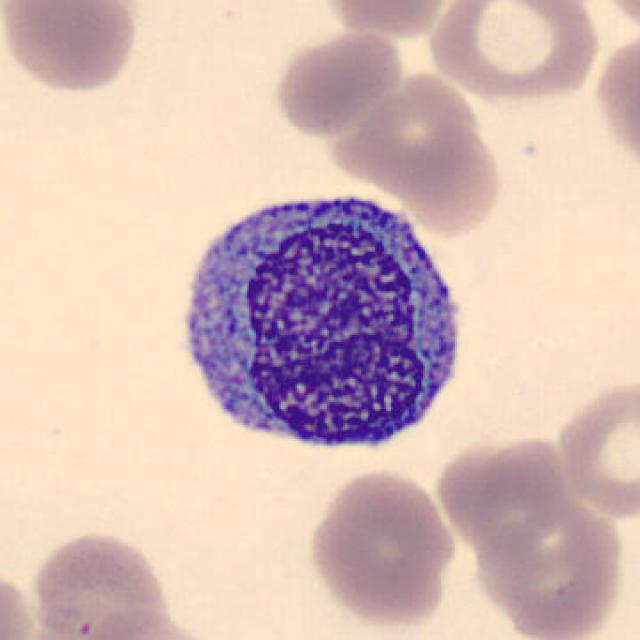Monocyte: (169, 175, 476, 467)
RBC: (302, 466, 459, 630), (469, 492, 631, 640), (322, 69, 487, 197), (425, 0, 603, 104), (430, 428, 572, 554), (27, 527, 174, 640), (270, 27, 407, 140), (0, 0, 144, 97), (553, 372, 638, 524), (592, 25, 638, 180), (313, 0, 459, 41), (72, 606, 222, 640), (0, 566, 41, 640), (590, 0, 640, 42)
